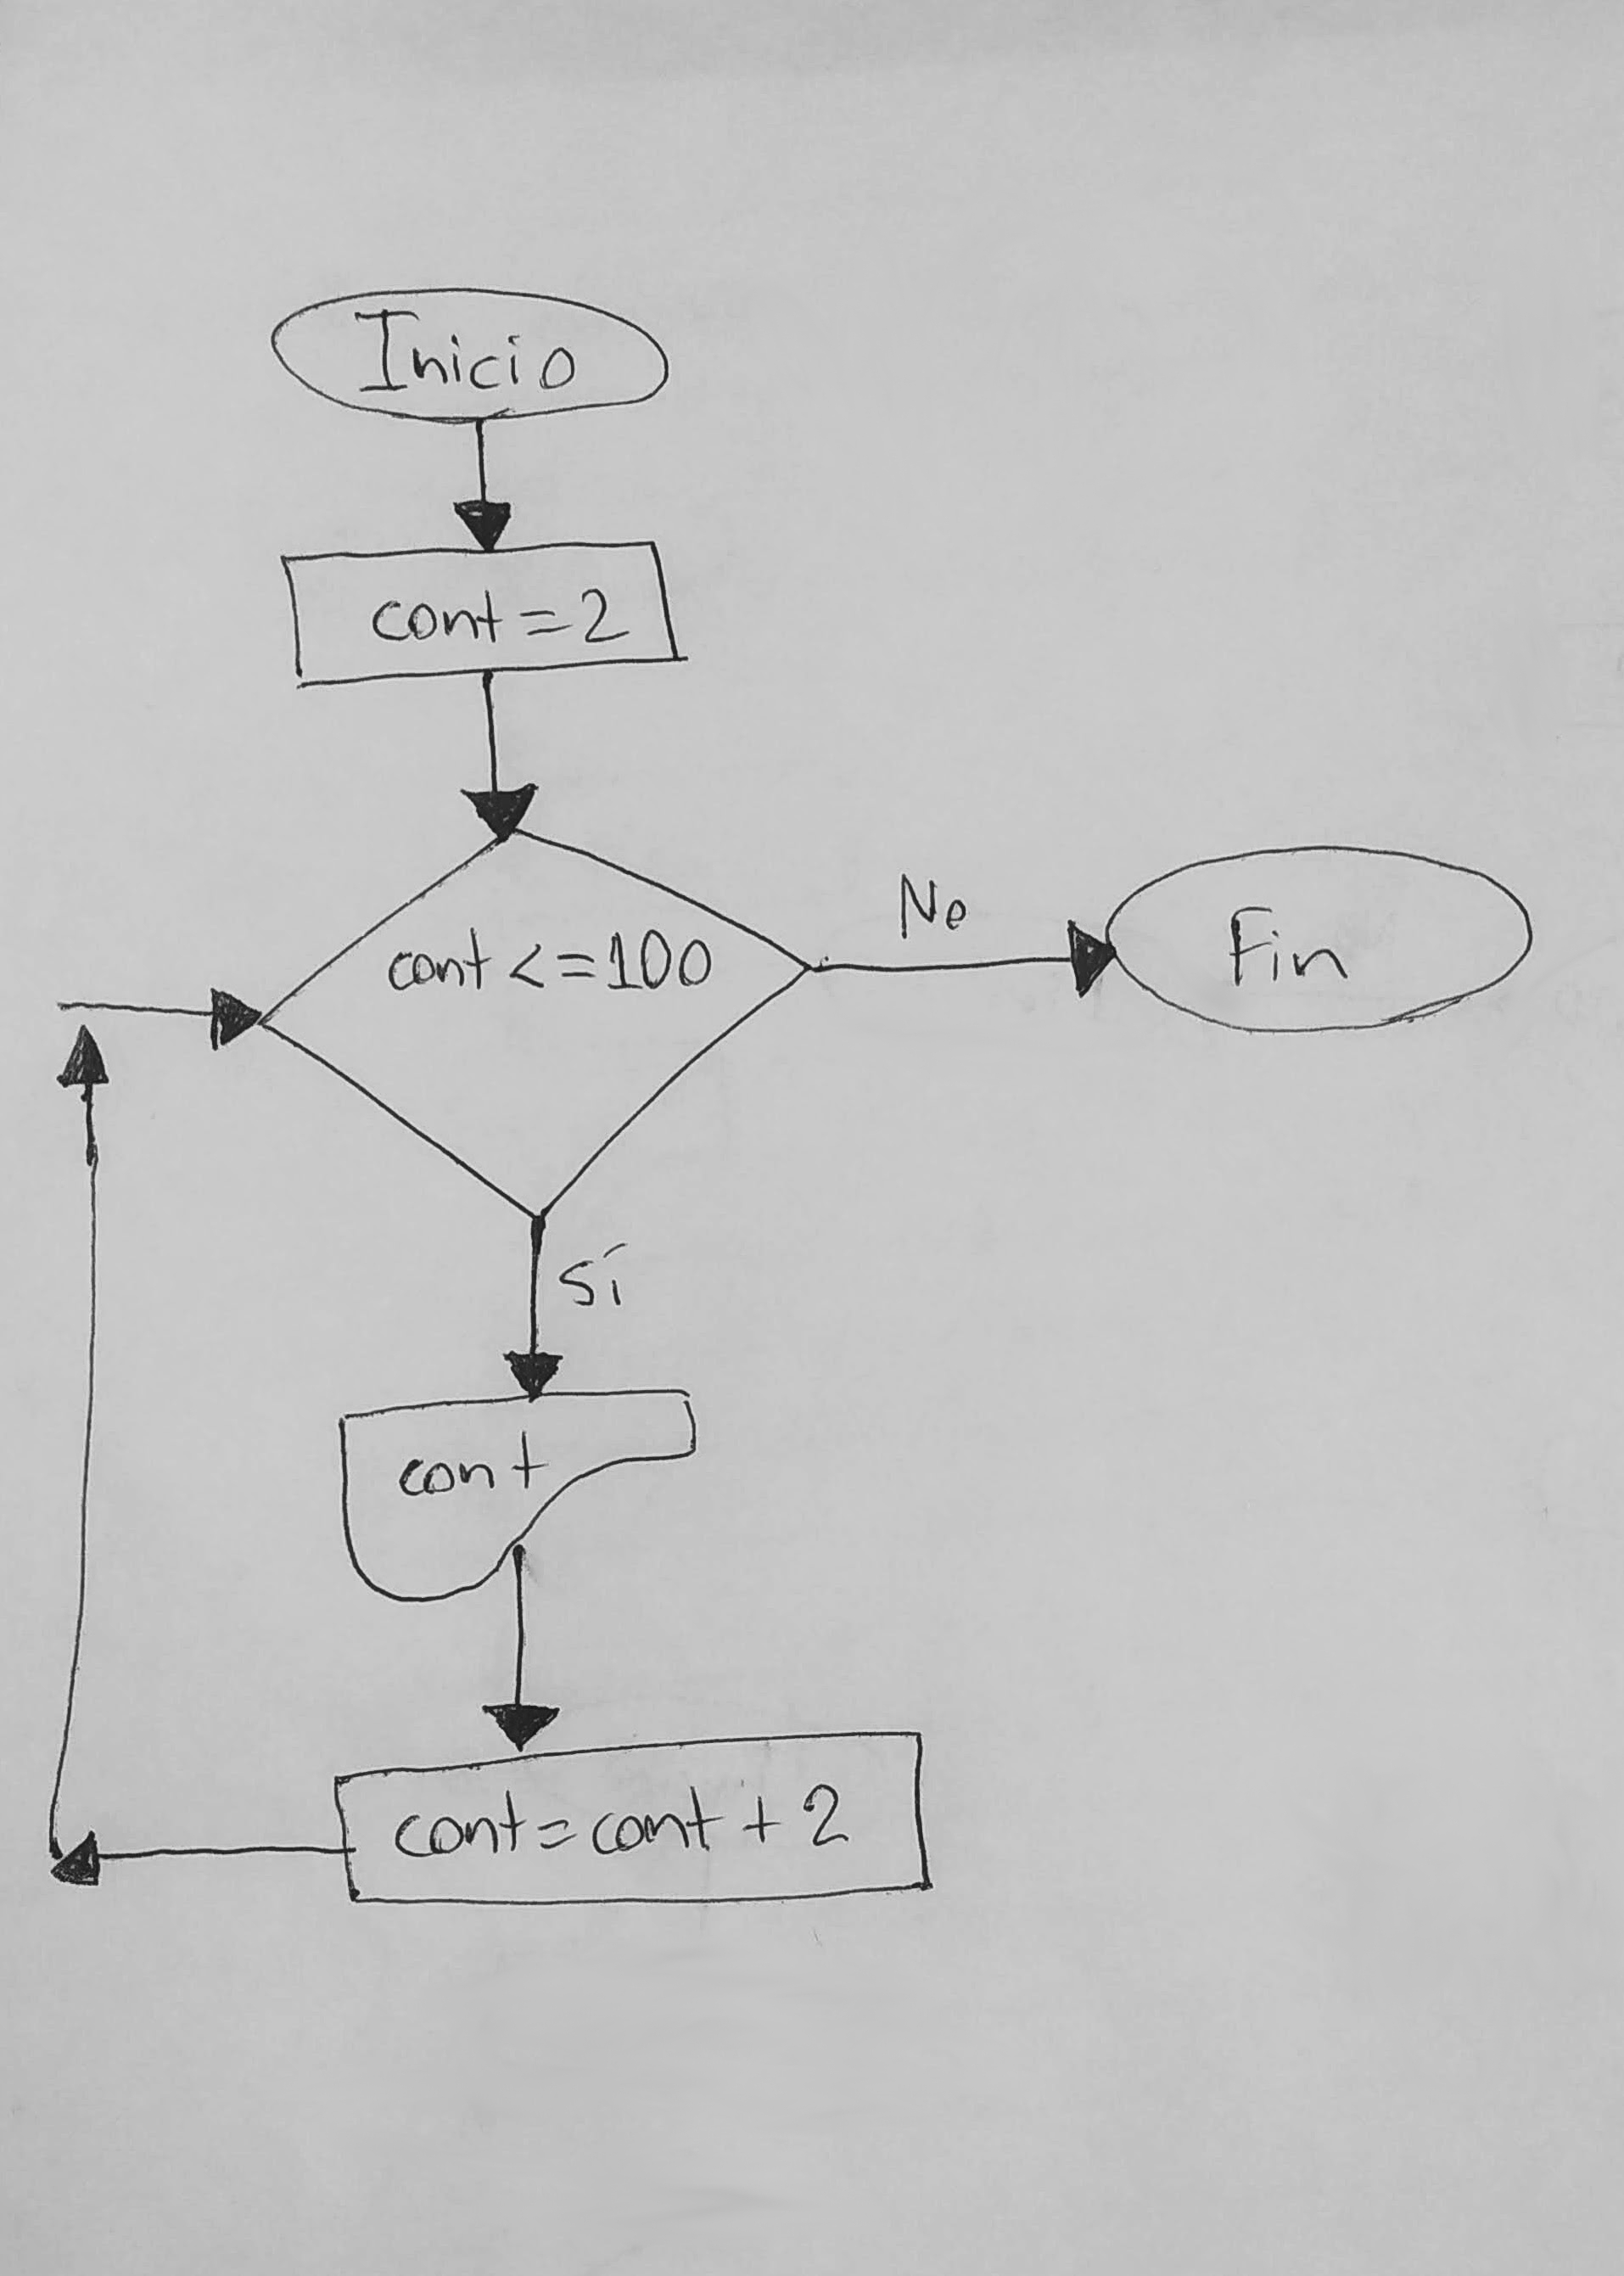arrow_line_down: (480, 1543, 564, 1756), (499, 1213, 575, 1410), (459, 671, 540, 840), (450, 418, 517, 550)
arrow_line_left: (49, 1831, 360, 1889)
arrow_line_right: (807, 909, 1116, 1009), (56, 988, 264, 1051)
arrow_line_up: (39, 1019, 121, 1863)
decision: (260, 826, 810, 1218)
print: (327, 1385, 710, 1608)
process: (316, 1735, 940, 1919), (264, 534, 698, 692)
start_end: (1107, 826, 1536, 1044), (264, 281, 678, 434)
